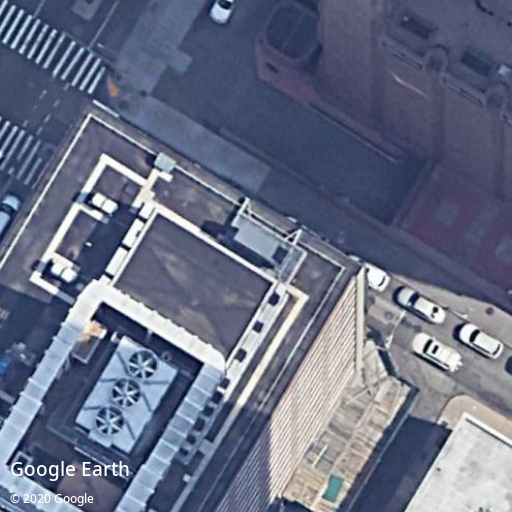Vent: (127, 350, 157, 379), (112, 378, 141, 407), (96, 406, 125, 435)
